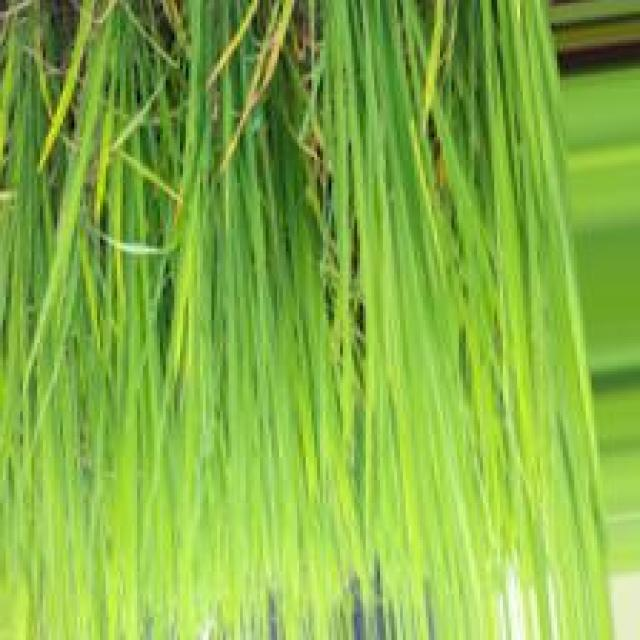HealthyLeaf: (386, 55, 423, 242), (304, 345, 316, 409)
